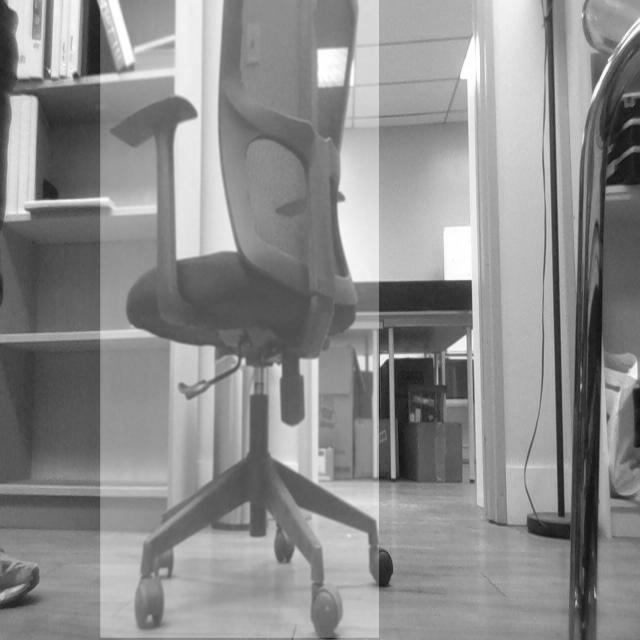chair: (110, 3, 405, 640)
light: (309, 23, 353, 102), (447, 41, 494, 80)
table: (276, 275, 471, 489)
